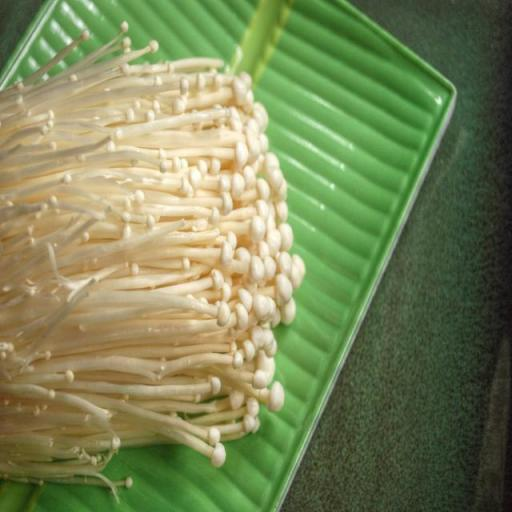Enoki Mushroom: (0, 19, 306, 512)
